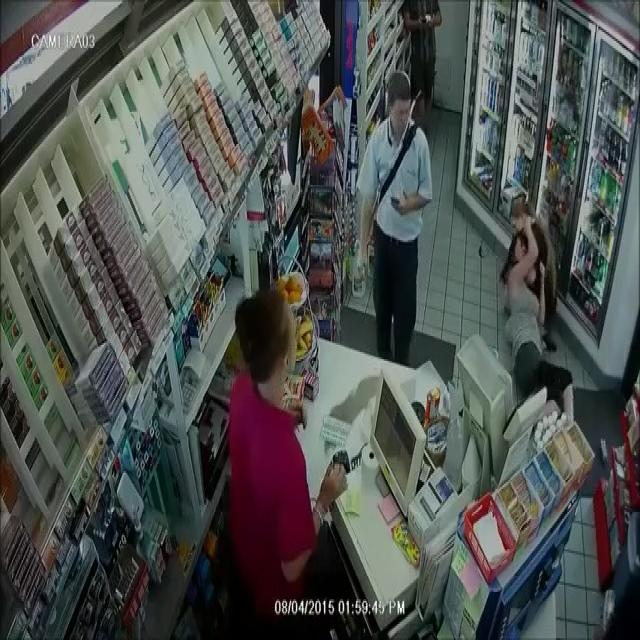fight: (500, 210, 580, 435)
